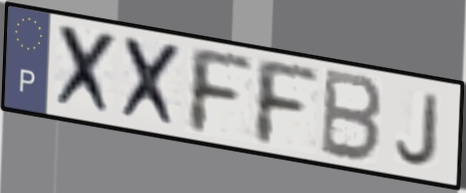B: (317, 65, 386, 166)
F: (185, 42, 256, 138), (251, 54, 321, 150)
J: (393, 90, 444, 169)
X: (50, 21, 120, 121), (118, 33, 188, 132)
